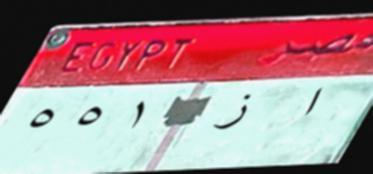1: (125, 96, 154, 136)
5: (69, 100, 106, 144), (26, 103, 58, 138)
alif: (292, 80, 330, 128)
zay: (213, 90, 257, 140)
